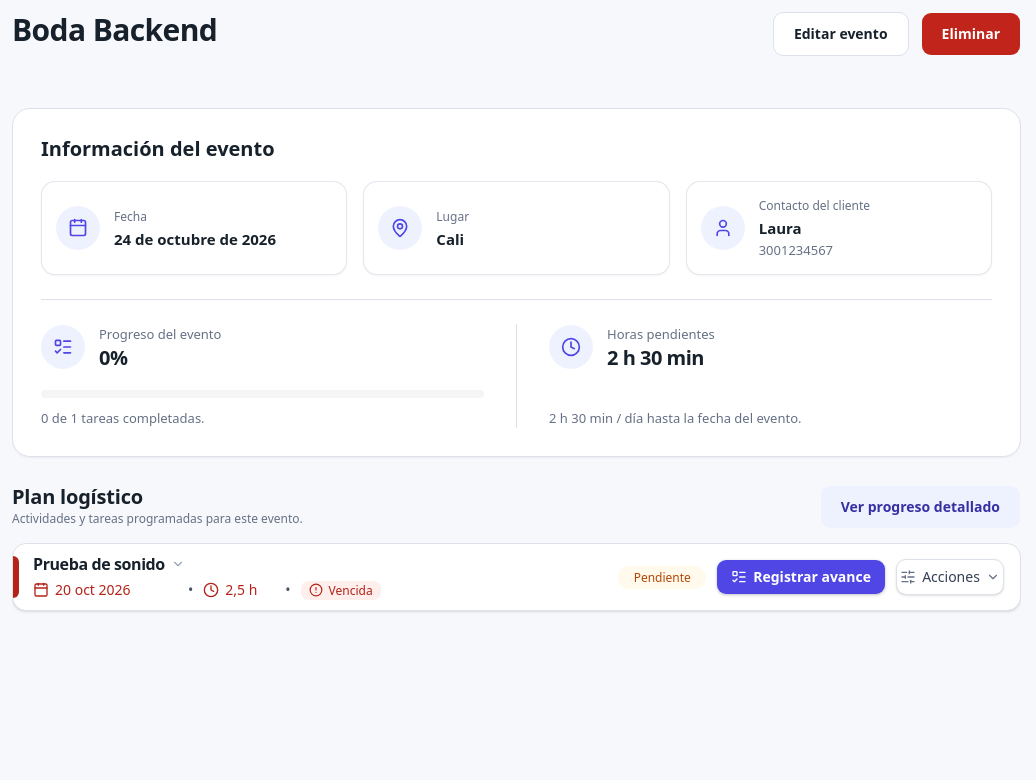
Scenario: EventDetailContent › permite ver los detalles de la tarea al hacer clic en su título interactivo (CA-01, CA-08)
Expected: the text "Detalles de la tarea" is not shown
Click the button "Prueba de sonido".
click(109, 564)  # box top-left (33, 554), bottom-right (185, 574)
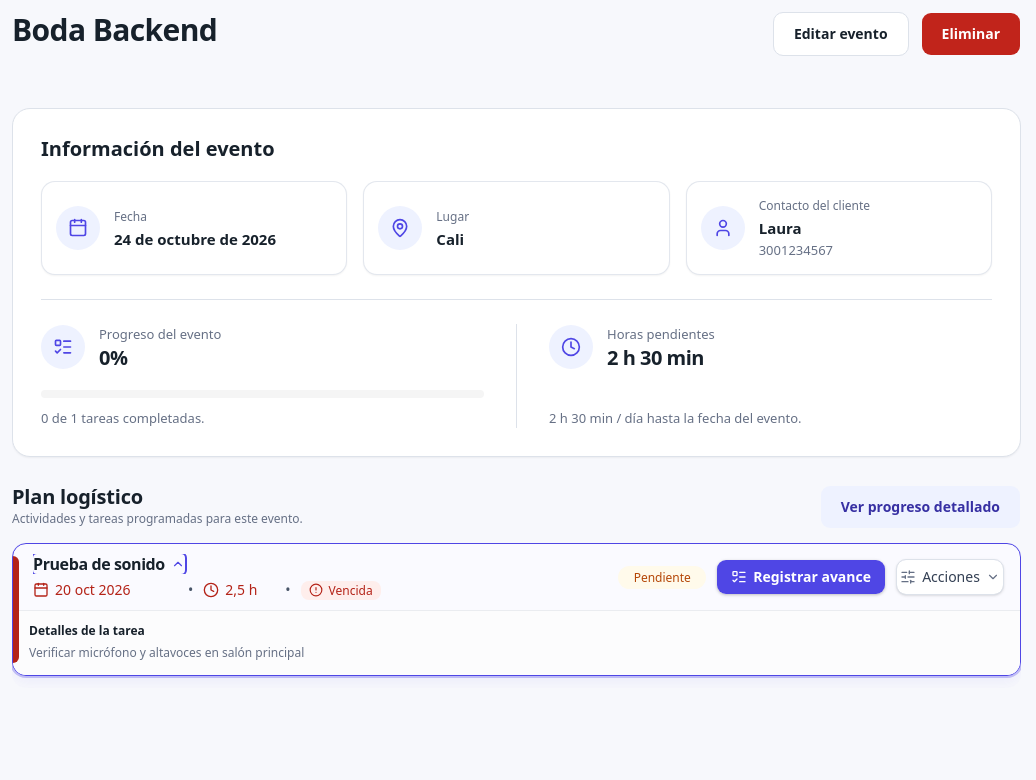
Expected: the text "Detalles de la tarea" is shown, top-left (29, 622), bottom-right (145, 639)
Expected: the text "Verificar micrófono y altavoces en salón principal" is shown, top-left (29, 644), bottom-right (304, 661)
Click the button "Prueba de sonido".
click(109, 564)  # box top-left (33, 554), bottom-right (185, 574)
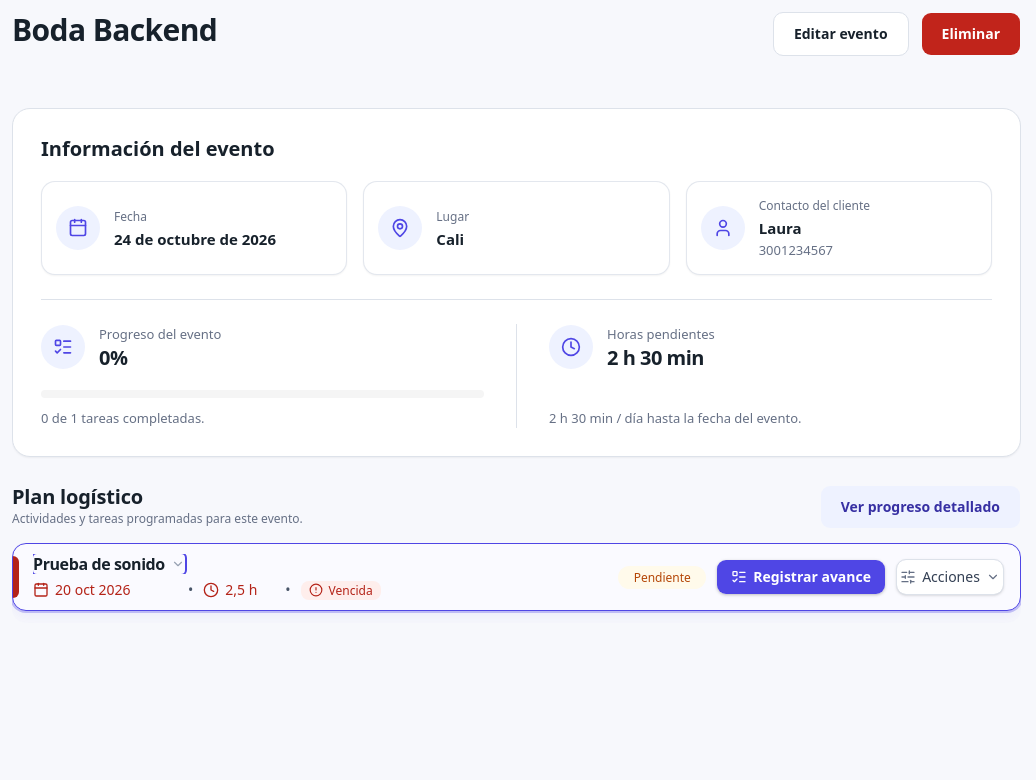
Expected: the text "Detalles de la tarea" is gone
